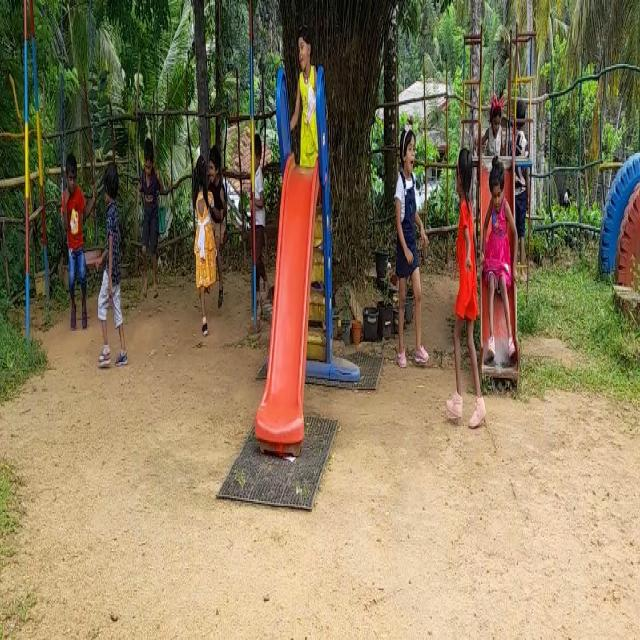child: (443, 136, 477, 426), (388, 120, 426, 376), (485, 144, 517, 380), (97, 149, 125, 380), (137, 137, 167, 305), (191, 152, 216, 344), (292, 22, 323, 164), (62, 142, 84, 340)
